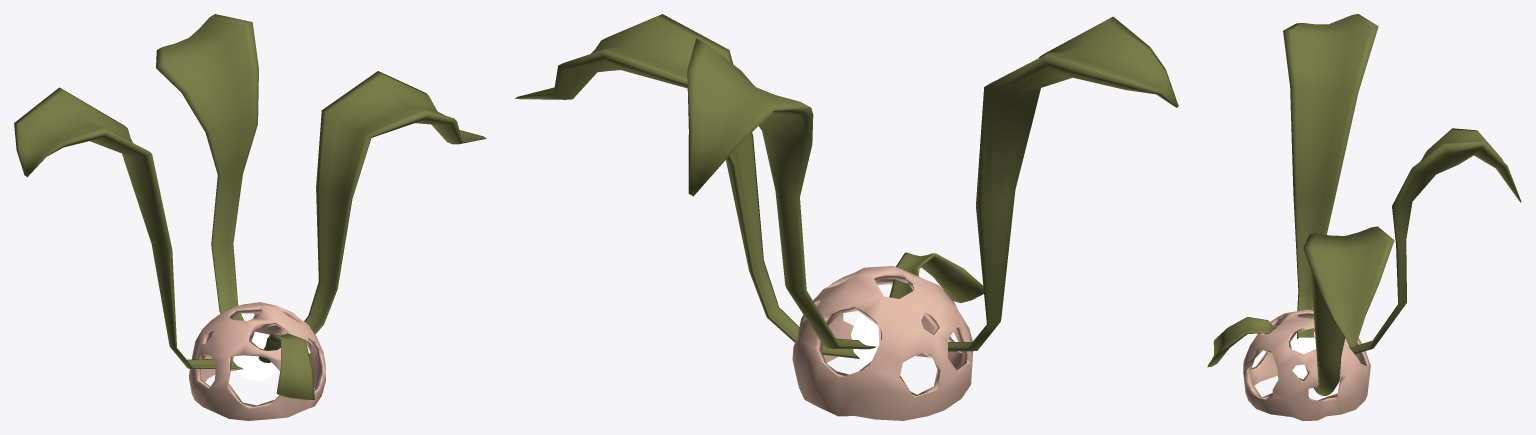
Rendered from TurtleUrchinC.fbx.
The picture shows the model from 3 angles, left to right: view 1: azimuth 30°, elevation 25°; view 2: azimuth 150°, elevation 25°; view 3: azimuth 270°, elevation 25°; orthographic projection. The views are drawn at different scales.
Visible parts, largest first — view 1: AloeStalk_low, OutCage_low, MiddleBall_low; view 2: AloeStalk_low, OutCage_low, MiddleBall_low; view 3: AloeStalk_low, OutCage_low, MiddleBall_low.
Boxes of the visible parts, x1,y1,x2,y2 form: AloeStalk_low: (14,14,486,399); OutCage_low: (189,302,325,420); MiddleBall_low: (233,332,277,381); AloeStalk_low: (515,14,1178,358); OutCage_low: (792,266,972,420); MiddleBall_low: (851,314,879,363); AloeStalk_low: (1207,14,1521,395); OutCage_low: (1243,309,1370,420); MiddleBall_low: (1290,337,1316,379).
Bounding box in the file's own units: 546 × 345 × 331.
